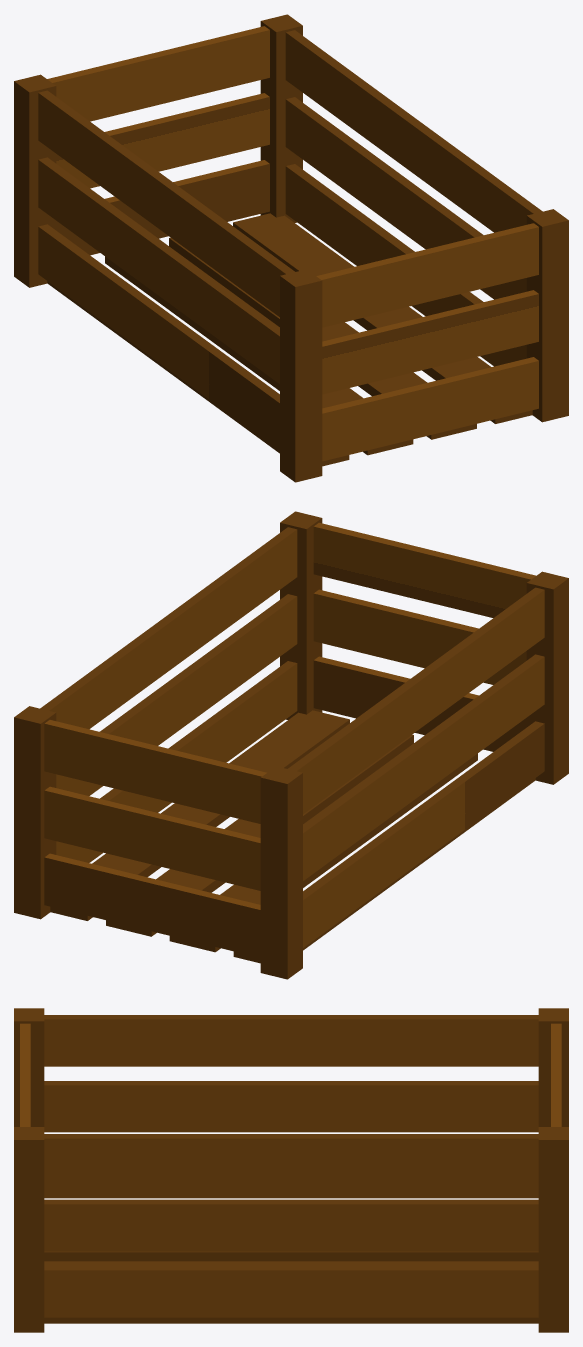
Rendered from WoodBoxWorkShop.fbx.
3 views of the same model, one above another, from view 1: azimuth 30°, elevation 25°; view 2: azimuth 150°, elevation 25°; view 3: azimuth 270°, elevation 25° (orthographic).
Parts seen in each view (by area): view 1: Cube; view 2: Cube; view 3: Cube.
Boxes of the visible parts, x1,y1,x2,y2 form: Cube: [14, 14, 568, 482]; Cube: [14, 511, 568, 979]; Cube: [14, 1008, 568, 1332].
Size of the model in its own units: 446 by 304 by 794.
Materials: 1 (1 with a texture image).
